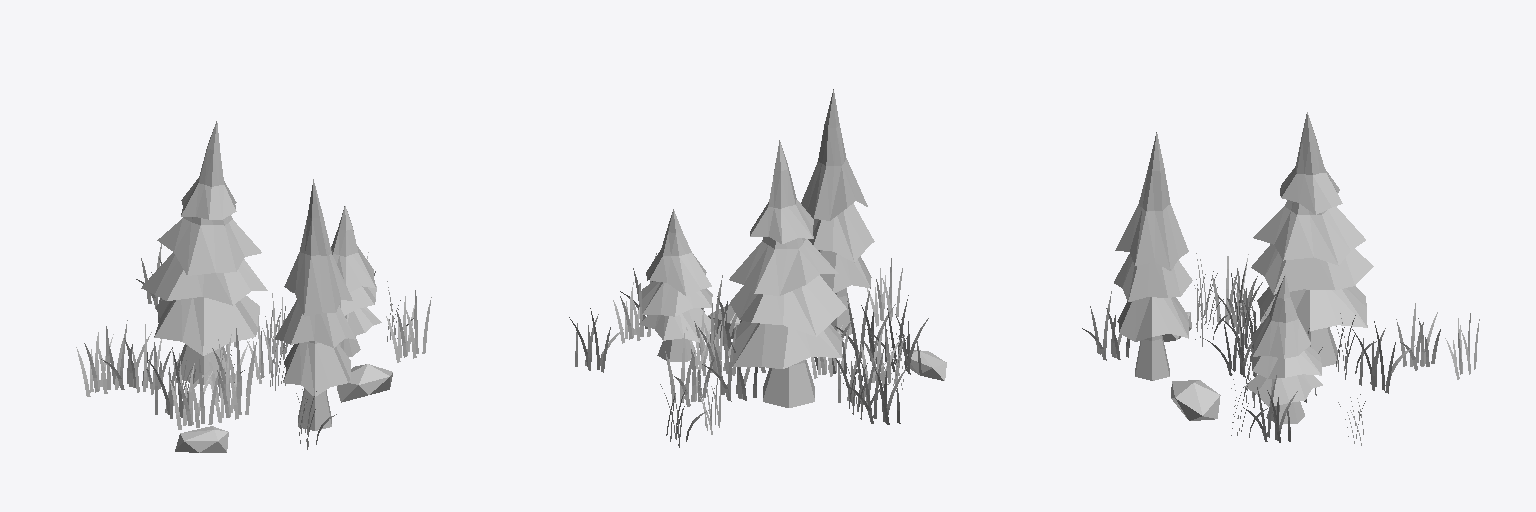
The model's file is SM_Env_Trees_02.obj.
3 views of the same model, side by side, from view 1: azimuth 30°, elevation 25°; view 2: azimuth 150°, elevation 25°; view 3: azimuth 270°, elevation 25° (orthographic).
Parts seen in each view (by area): view 1: SM_Env_Trees_02_Cylinder.010; view 2: SM_Env_Trees_02_Cylinder.010; view 3: SM_Env_Trees_02_Cylinder.010.
Part boxes in pixels (left/top/right/bottom): SM_Env_Trees_02_Cylinder.010: left=76, top=121, right=431, bottom=452; SM_Env_Trees_02_Cylinder.010: left=569, top=89, right=946, bottom=447; SM_Env_Trees_02_Cylinder.010: left=1082, top=112, right=1479, bottom=445.
Bounding box in the file's own units: 3.87 × 3.13 × 4.28.